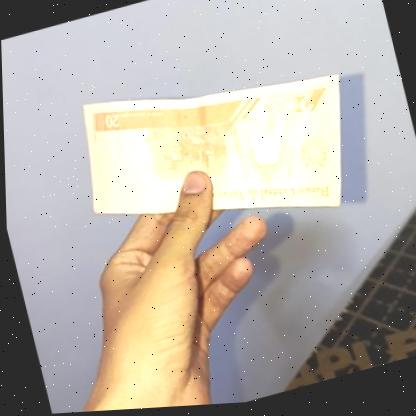twenty-back-vef: (63, 37, 371, 271)
